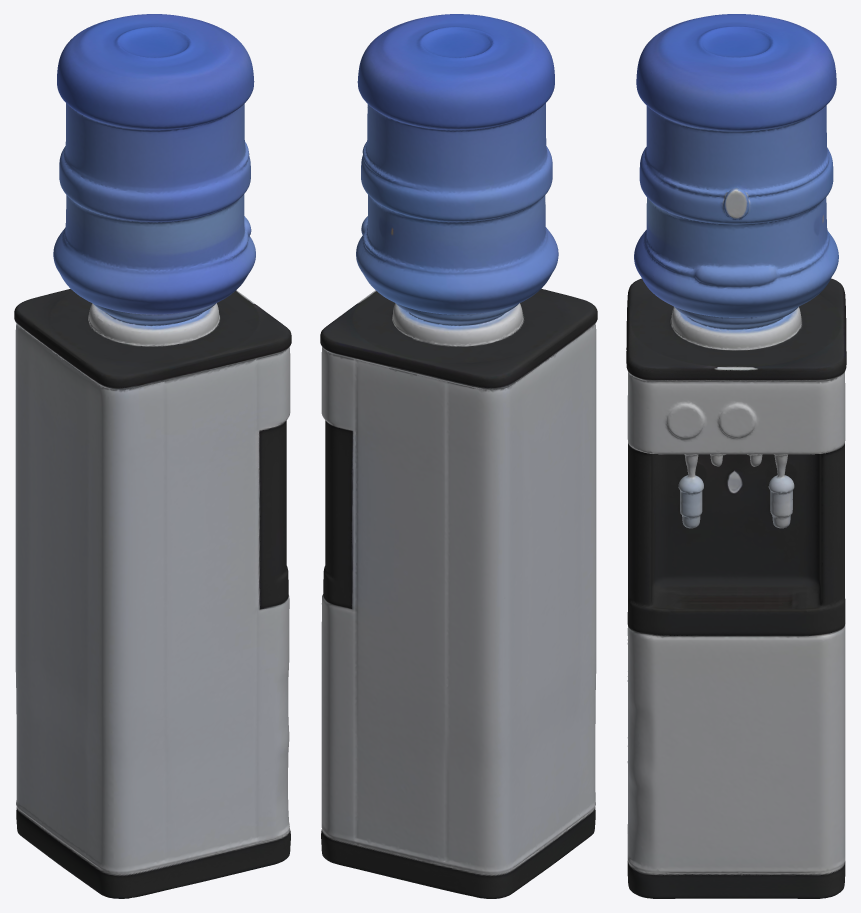
The model's file is black_cooler.glb.
3 views of the same model, side by side, from view 1: azimuth 30°, elevation 25°; view 2: azimuth 150°, elevation 25°; view 3: azimuth 270°, elevation 25° (orthographic).
Parts seen in each view (by area): view 1: tripo_node_9d09cfb9-d76a-479c-8252-b1aa39f8f0c7; view 2: tripo_node_9d09cfb9-d76a-479c-8252-b1aa39f8f0c7; view 3: tripo_node_9d09cfb9-d76a-479c-8252-b1aa39f8f0c7.
Part boxes in pixels (left/top/right/bottom): tripo_node_9d09cfb9-d76a-479c-8252-b1aa39f8f0c7: left=14, top=14, right=291, bottom=898; tripo_node_9d09cfb9-d76a-479c-8252-b1aa39f8f0c7: left=320, top=14, right=597, bottom=898; tripo_node_9d09cfb9-d76a-479c-8252-b1aa39f8f0c7: left=626, top=14, right=846, bottom=898.
Bounding box in the file's own units: 0.2526 × 1 × 0.2456.
Materials: 1 (1 with a texture image).
